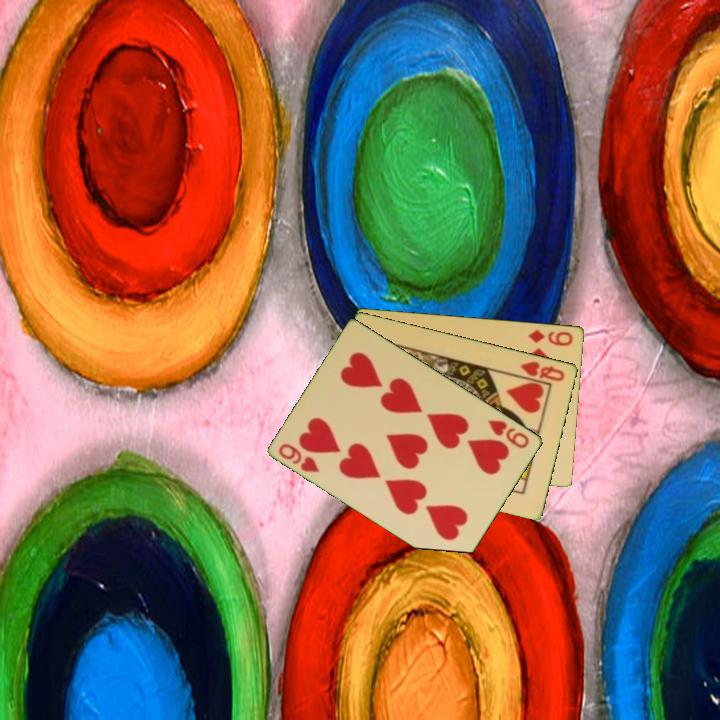9d: (525, 326, 576, 349)
9h: (485, 416, 533, 451), (275, 440, 323, 475)
Qh: (517, 357, 568, 384)
